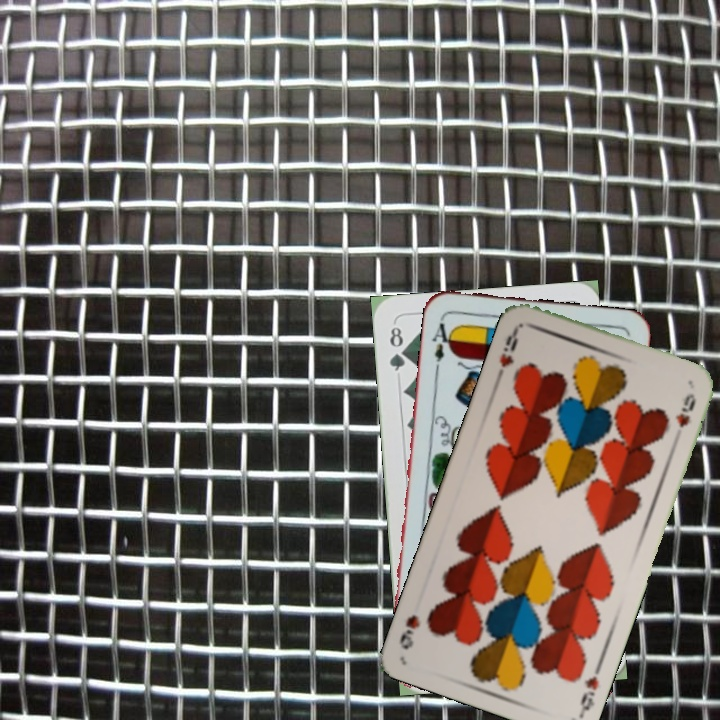EA: (427, 314, 456, 373)
G8: (385, 322, 409, 374)
H9: (493, 323, 521, 381), (576, 672, 601, 718)
